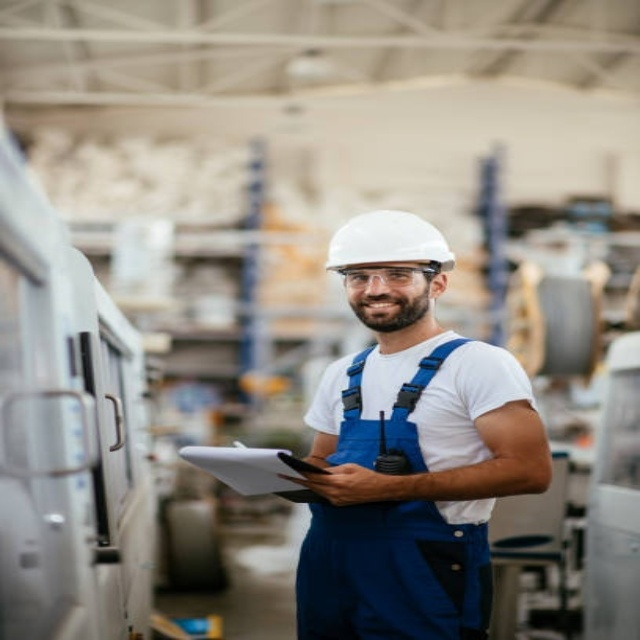Gafas: (339, 267, 437, 290)
Sin_guantes: (278, 463, 381, 506)
Sin_mascara: (351, 295, 398, 321)
